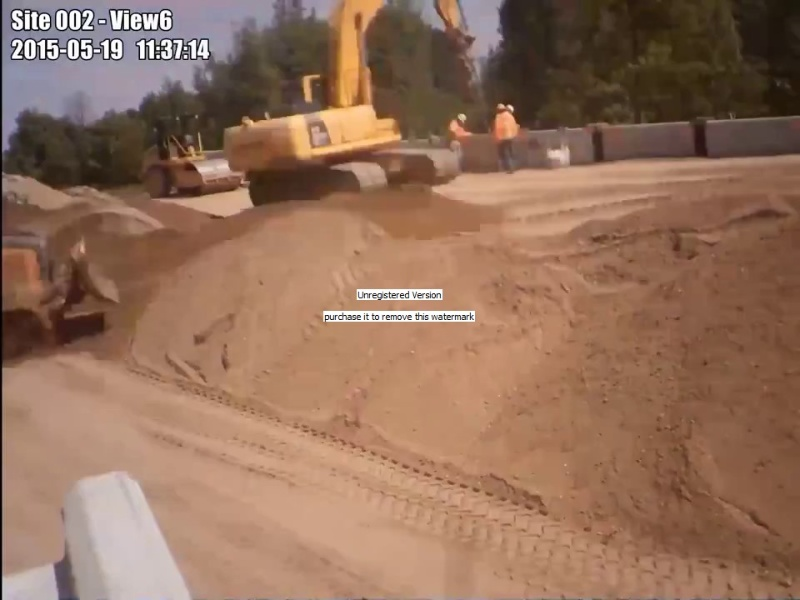bulldozer: (1, 233, 121, 363)
excavator: (221, 1, 482, 205)
hardhat: (456, 112, 468, 125), (496, 104, 508, 111)
person: (491, 103, 519, 174), (447, 114, 472, 145)
roller: (138, 114, 241, 199)
wall: (529, 116, 800, 164)
